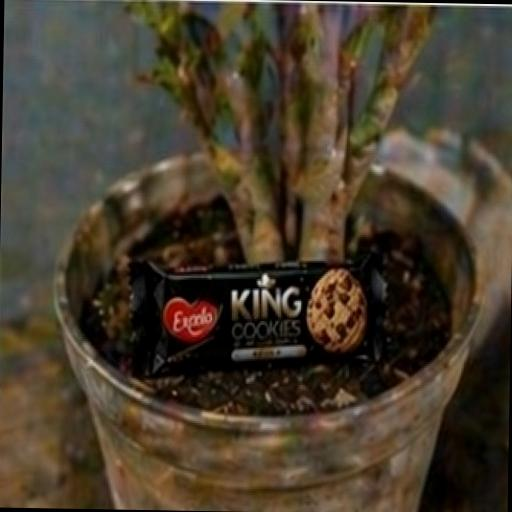king_cooking: (97, 202, 458, 436)
